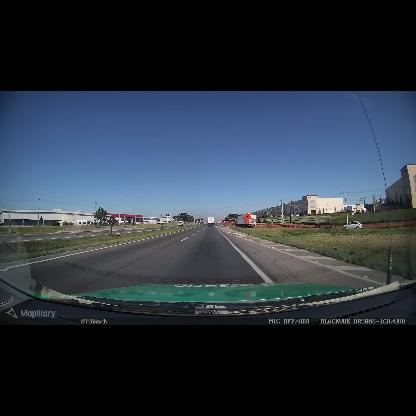A-24: (243, 213, 251, 222)
R-24a: (271, 221, 273, 225)
